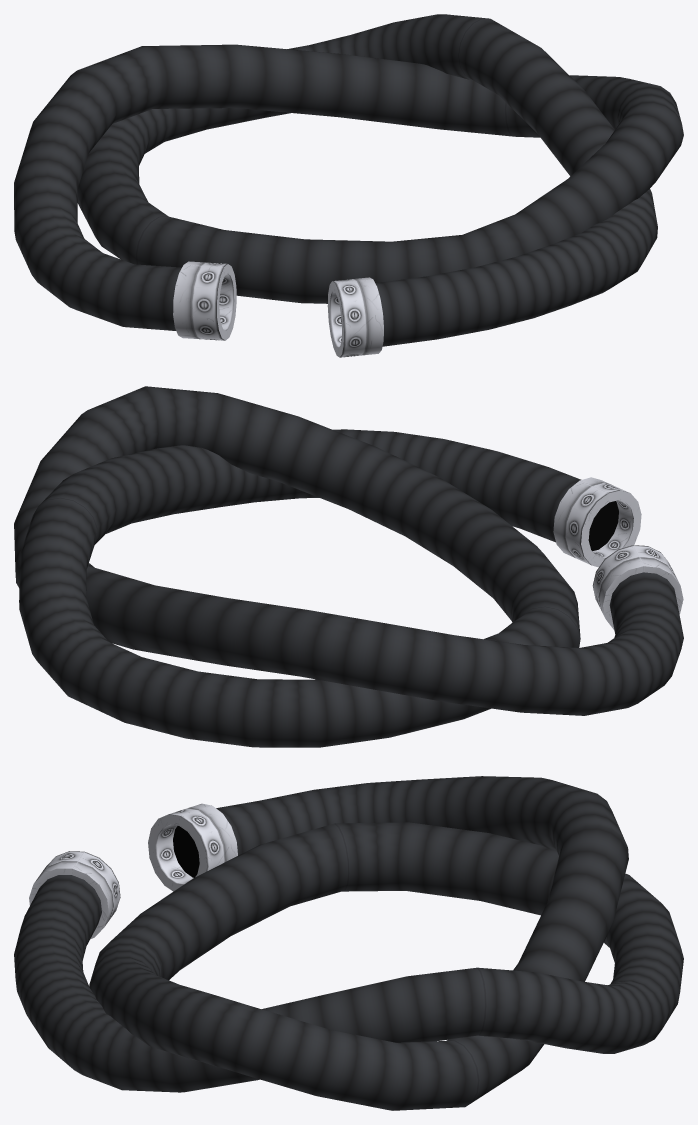
File: Cable_01.FBX
3 renders of one model, top to bottom at view 1: azimuth 30°, elevation 25°; view 2: azimuth 150°, elevation 25°; view 3: azimuth 270°, elevation 25°, orthographic. The views are drawn at different scales.
Visible parts, largest first — view 1: Cable_01; view 2: Cable_01; view 3: Cable_01.
Part boxes in pixels (x1,y1,x2,y2): Cable_01: [14, 14, 683, 357]; Cable_01: [14, 386, 683, 747]; Cable_01: [14, 776, 683, 1110].
Size of the model in its own units: 2.14 by 0.4224 by 1.94.
1 material, 1 textured.
